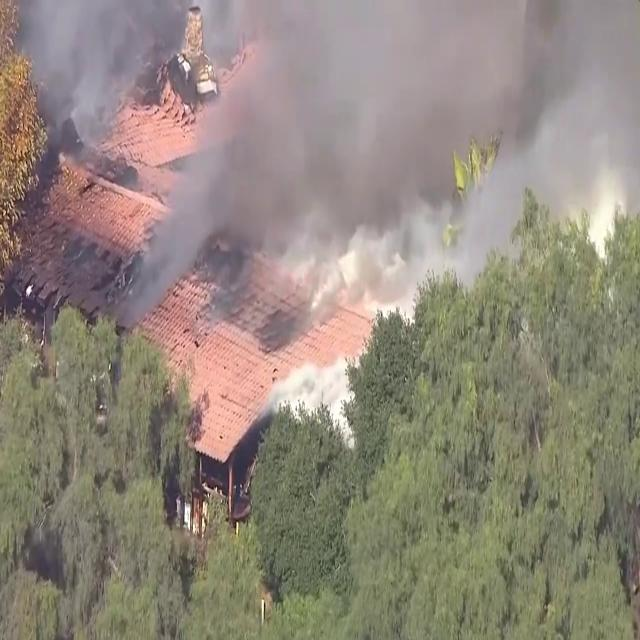Smoke: (37, 0, 610, 327)
